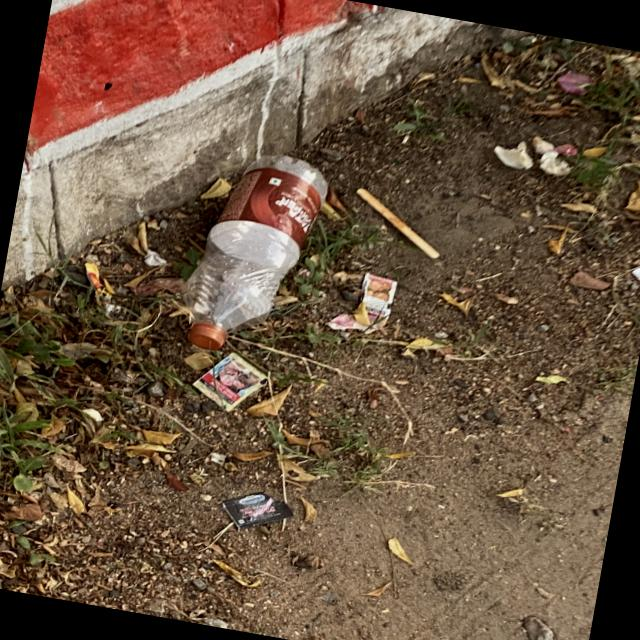chai_nhua: (181, 155, 327, 349)
giay: (192, 353, 266, 411), (362, 273, 396, 311)
giay_goi: (221, 493, 293, 529)
rac_huu_co: (356, 187, 439, 258)
